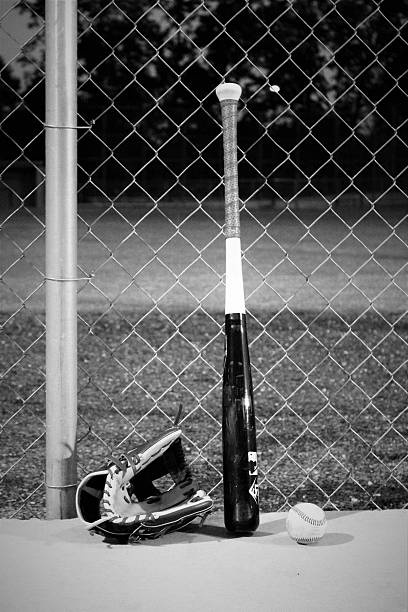bita: (207, 82, 264, 526)
